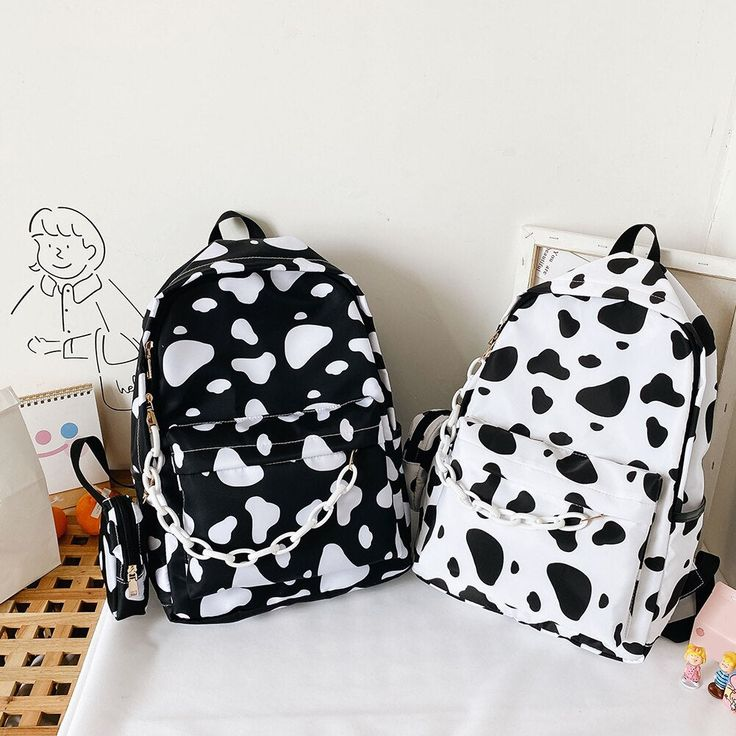nylon: (70, 209, 725, 664)
